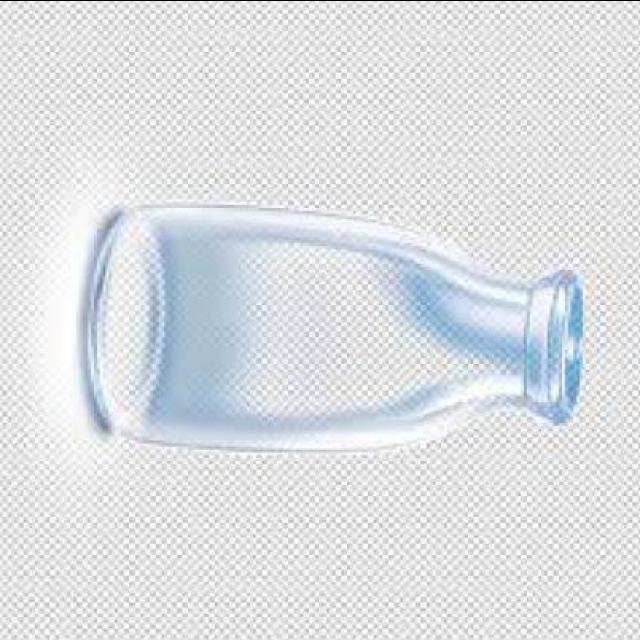kaca: (85, 203, 588, 442)
